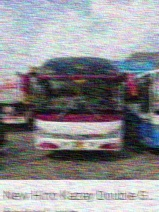bus: (20, 56, 136, 157)
